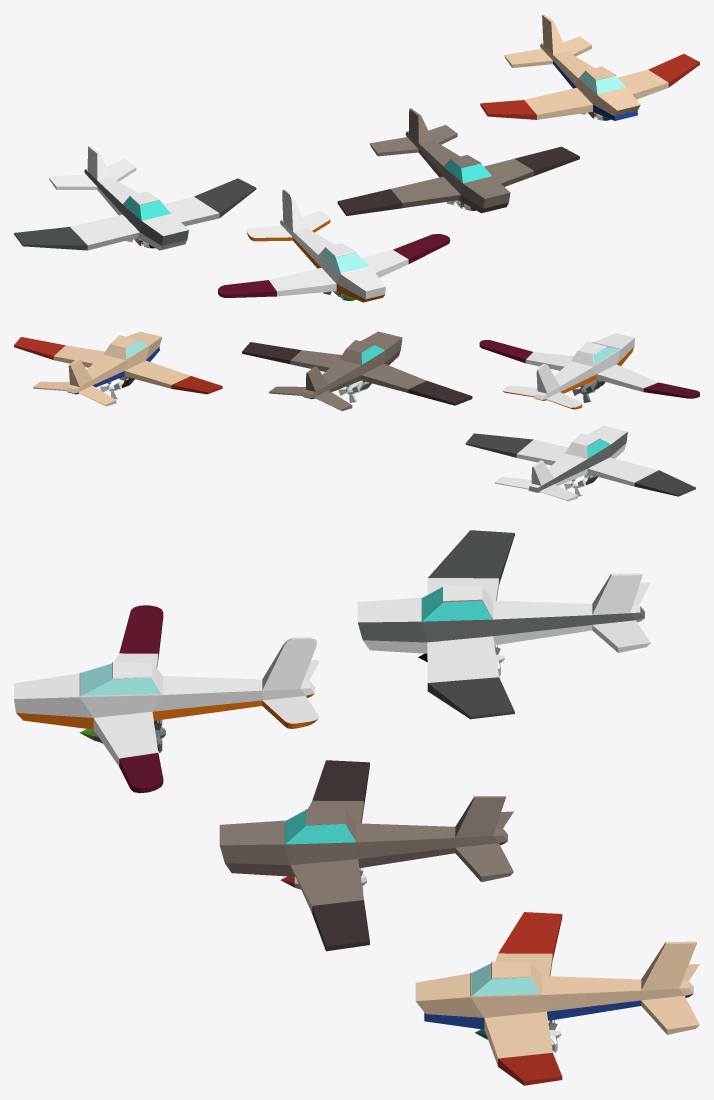
Rendered from player.glb.
3 views of the same model, one above another, from view 1: azimuth 30°, elevation 25°; view 2: azimuth 150°, elevation 25°; view 3: azimuth 270°, elevation 25° (orthographic). The views are drawn at different scales.
Visible parts, largest first — view 1: Cube.014, Cube.013, Cube.011, Cube.012; view 2: Cube.014, Cube.013, Cube.012, Cube.011, Cylinder.004; view 3: Cube.014, Cube.013, Cube.011, Cube.012.
Part boxes in pixels (bbox=[...]): Cube.014: bbox=[14, 146, 256, 250]; Cube.013: bbox=[337, 108, 579, 215]; Cube.011: bbox=[218, 189, 449, 302]; Cube.012: bbox=[480, 14, 699, 120]; Cube.014: bbox=[465, 425, 695, 501]; Cube.013: bbox=[242, 331, 472, 411]; Cube.012: bbox=[14, 331, 222, 406]; Cube.011: bbox=[479, 333, 699, 409]; Cylinder.004: bbox=[572, 379, 599, 402]; Cube.014: bbox=[357, 530, 650, 719]; Cube.013: bbox=[219, 760, 513, 951]; Cube.011: bbox=[14, 605, 318, 793]; Cube.012: bbox=[415, 912, 699, 1085].
Bounding box in the file's own units: 45.78 × 4.47 × 23.99.
1 material, 1 textured.
